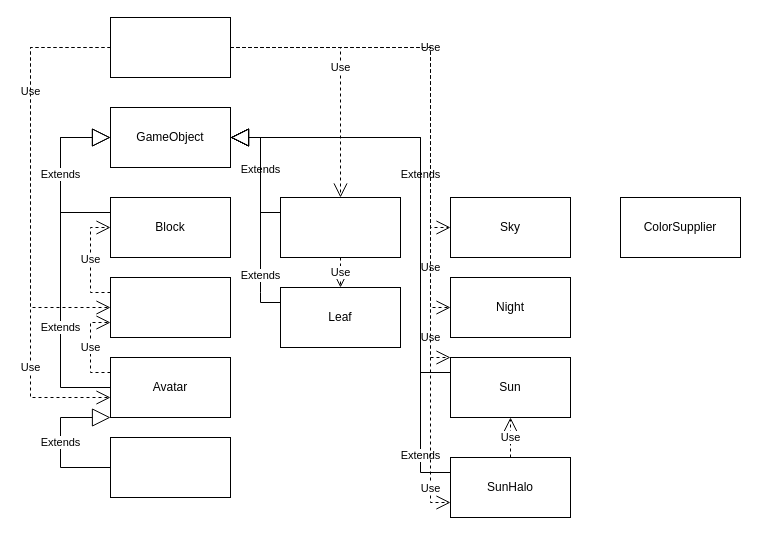
The diagram is 758 pixels wide and 535 high, and some of its shapes have lost their labels. The centre of each missing label's shape, as x and y in pixels:
"Animal" belongs at (x=170, y=467).
"PepseGameManger" belongs at (x=170, y=47).
"Terrain" belongs at (x=170, y=307).
"Tree" belongs at (x=340, y=227).
